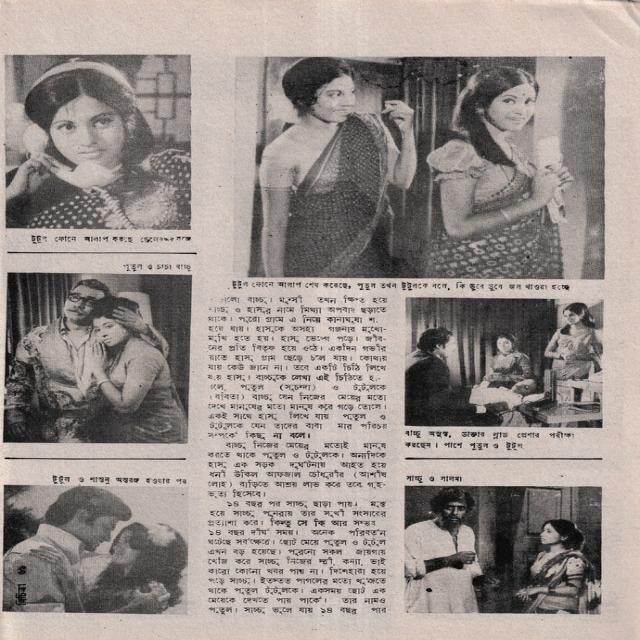caption: (206, 499, 390, 616), (230, 279, 572, 293), (404, 429, 576, 452), (28, 233, 193, 245), (50, 474, 188, 485), (121, 263, 194, 272), (403, 474, 463, 484)
image: (231, 53, 607, 281), (2, 53, 193, 231), (1, 271, 194, 445), (403, 296, 605, 429), (403, 484, 603, 616), (3, 485, 189, 616)
page number: (14, 564, 28, 575)
paragraph: (206, 294, 389, 441), (206, 440, 388, 500)
text: (14, 582, 30, 605)
